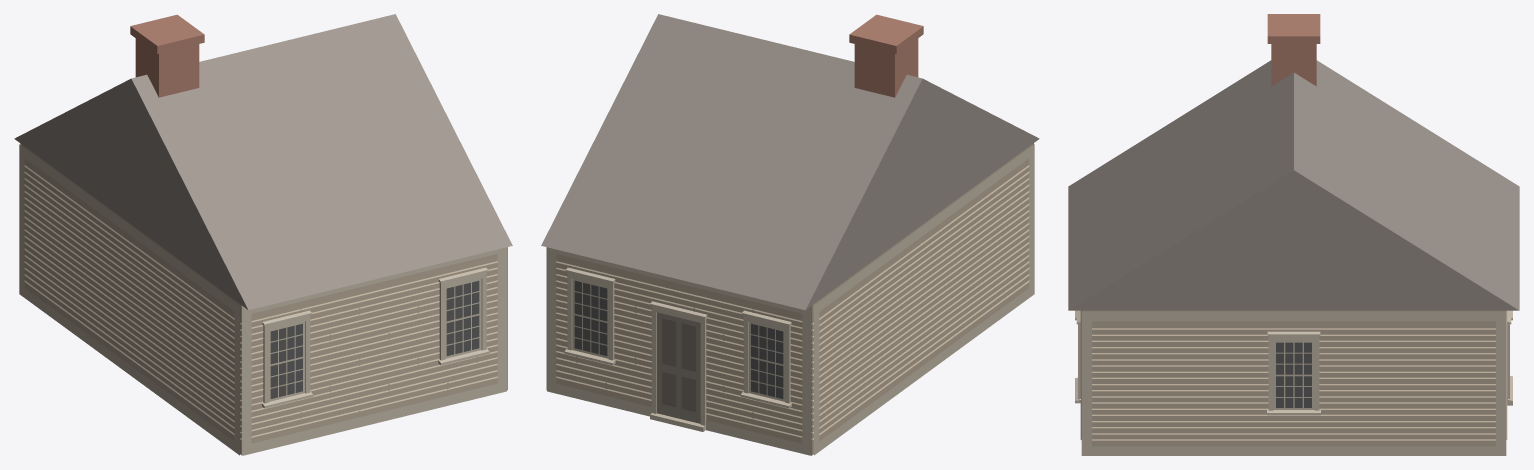
File: inf_teamster_dwelling_west__inferred_1835.glb
3 renders of one model, left to right at view 1: azimuth 30°, elevation 25°; view 2: azimuth 150°, elevation 25°; view 3: azimuth 270°, elevation 25°, orthographic. The views are drawn at different scales.
Visible parts, largest first — view 1: inf_teamster_dwelling_west__inferred_1835; view 2: inf_teamster_dwelling_west__inferred_1835; view 3: inf_teamster_dwelling_west__inferred_1835.
Part boxes in pixels (x1,y1,x2,y2): inf_teamster_dwelling_west__inferred_1835: (14,14,512,455); inf_teamster_dwelling_west__inferred_1835: (541,14,1039,455); inf_teamster_dwelling_west__inferred_1835: (1068,14,1519,455).
Size of the model in its own units: 5.64 by 6.65 by 8.43.
